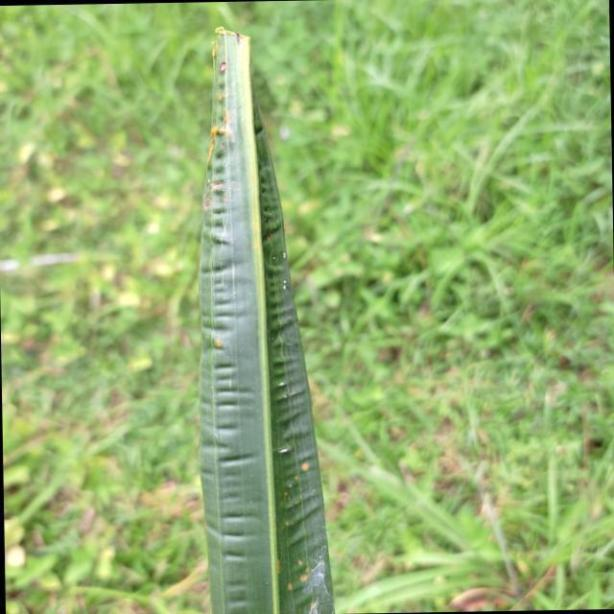Boron: (199, 16, 330, 603)
